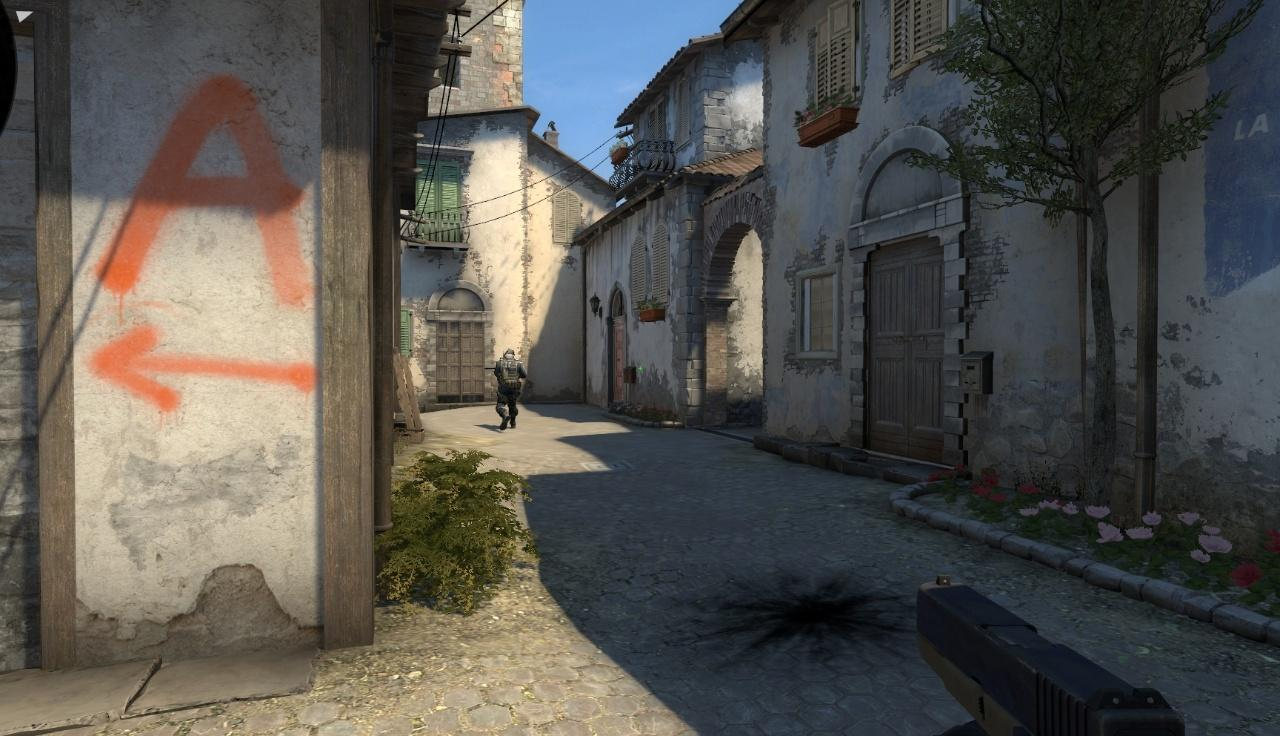ct: (490, 347, 526, 429)
cthead: (503, 348, 515, 359)
pistol: (911, 572, 1189, 735)
